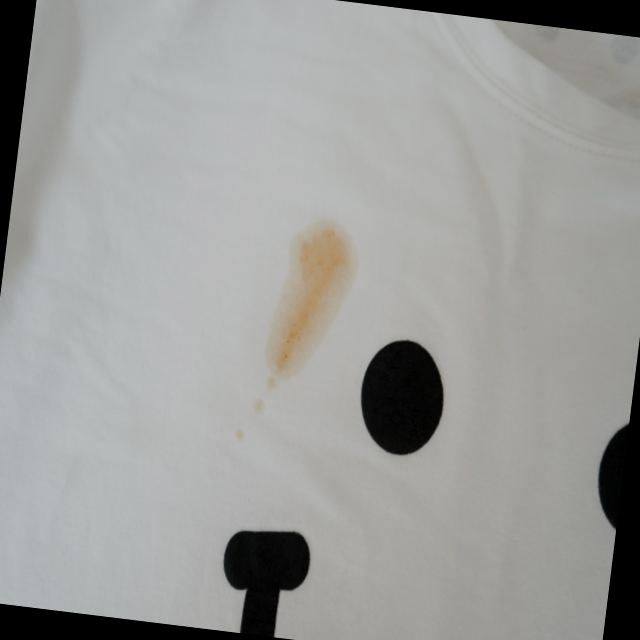kimchi: (229, 214, 363, 435)
